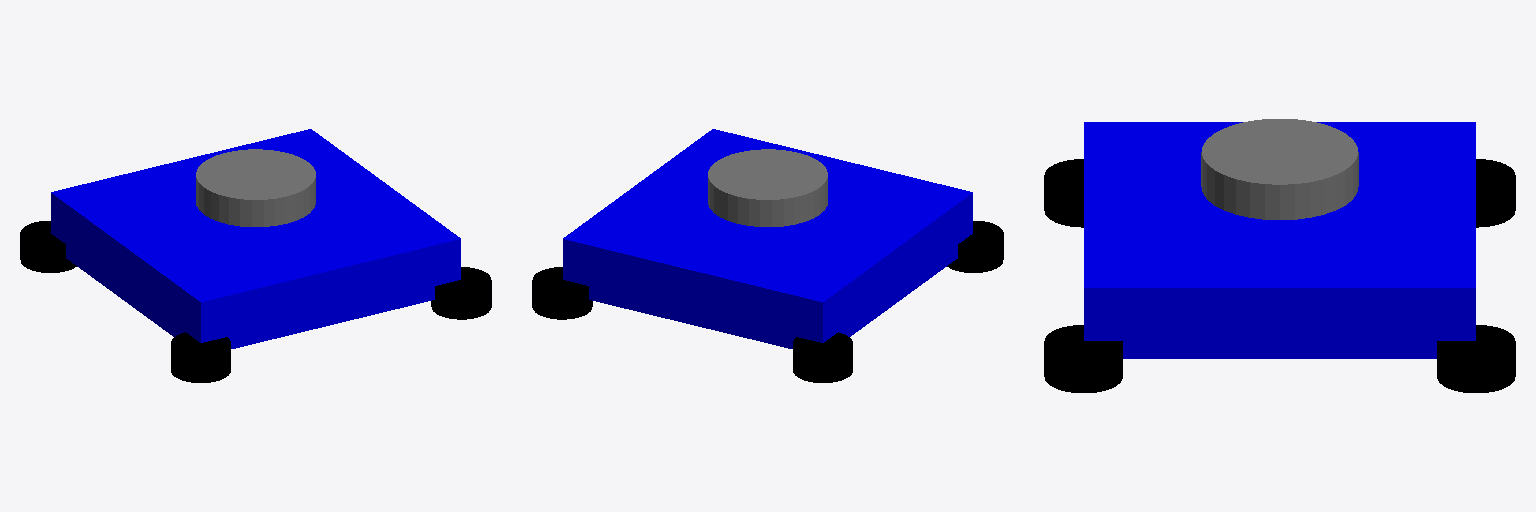
URDF robot description (omni_robot):
<?xml version="1.0" ?>
<!-- =================================================================================== -->
<!-- |    This document was autogenerated by xacro from omni.urdf.xacro                | -->
<!-- |    EDITING THIS FILE BY HAND IS NOT RECOMMENDED                                 | -->
<!-- =================================================================================== -->
<robot name="omni_robot">
  
  <!-- Base of the robot -->
  <link name="base_link">
    <visual>
      <geometry>
        <box size="0.5 0.5 0.1"/>
        <!-- Placeholder dimensions: 50cm x 50cm x 10cm -->
      </geometry>
      <material name="blue">
        <color rgba="0.0 0.0 1.0 1.0"/>
      </material>
    </visual>
    <collision>
      <geometry>
        <box size="0.5 0.5 0.1"/>
      </geometry>
    </collision>
    <inertial>
      <mass value="10.0"/>
      <inertia ixx="0.2" ixy="0.0" ixz="0.0" iyy="0.2" iyz="0.0" izz="0.2"/>
    </inertial>
  </link>
  <!-- LIDAR Sensor -->
  <link name="lidar_link">
    <visual>
      <geometry>
        <cylinder length="0.05" radius="0.1"/>
      </geometry>
      <material name="grey">
        <color rgba="0.5 0.5 0.5 1.0"/>
      </material>
    </visual>
    <collision>
      <geometry>
        <cylinder length="0.05" radius="0.1"/>
      </geometry>
    </collision>
    <inertial>
      <mass value="0.5"/>
      <inertia ixx="0.01" ixy="0.0" ixz="0.0" iyy="0.01" iyz="0.0" izz="0.01"/>
    </inertial>
  </link>
  <!-- LIDAR Joint -->
  <joint name="lidar_joint" type="fixed">
    <parent link="base_link"/>
    <child link="lidar_link"/>
    <origin rpy="0 0 0" xyz="0 0 0.1"/>
    <!-- Positioned on top of the base -->
  </joint>
  <link name="wheel_1_link">
    <visual>
      <geometry>
        <cylinder length="0.05" radius="0.05"/>
        <!-- Placeholder dimensions: 10cm diameter, 5cm width -->
      </geometry>
      <material name="black">
        <color rgba="0.0 0.0 0.0 1.0"/>
      </material>
    </visual>
    <collision>
      <geometry>
        <cylinder length="0.05" radius="0.05"/>
      </geometry>
    </collision>
    <inertial>
      <mass value="1.0"/>
      <inertia ixx="0.005" ixy="0.0" ixz="0.0" iyy="0.005" iyz="0.0" izz="0.005"/>
    </inertial>
  </link>
  <joint name="wheel_1_joint" type="continuous">
    <parent link="base_link"/>
    <child link="wheel_1_link"/>
    <origin rpy="0 0 0" xyz="0.25 0.25 -0.05"/>
    <axis xyz="0 1 0"/>
    <!-- Rotation around the Y-axis -->
  </joint>
  <link name="wheel_2_link">
    <visual>
      <geometry>
        <cylinder length="0.05" radius="0.05"/>
        <!-- Placeholder dimensions: 10cm diameter, 5cm width -->
      </geometry>
      <material name="black">
        <color rgba="0.0 0.0 0.0 1.0"/>
      </material>
    </visual>
    <collision>
      <geometry>
        <cylinder length="0.05" radius="0.05"/>
      </geometry>
    </collision>
    <inertial>
      <mass value="1.0"/>
      <inertia ixx="0.005" ixy="0.0" ixz="0.0" iyy="0.005" iyz="0.0" izz="0.005"/>
    </inertial>
  </link>
  <joint name="wheel_2_joint" type="continuous">
    <parent link="base_link"/>
    <child link="wheel_2_link"/>
    <origin rpy="0 0 0" xyz="0.25 -0.25 -0.05"/>
    <axis xyz="0 1 0"/>
    <!-- Rotation around the Y-axis -->
  </joint>
  <link name="wheel_3_link">
    <visual>
      <geometry>
        <cylinder length="0.05" radius="0.05"/>
        <!-- Placeholder dimensions: 10cm diameter, 5cm width -->
      </geometry>
      <material name="black">
        <color rgba="0.0 0.0 0.0 1.0"/>
      </material>
    </visual>
    <collision>
      <geometry>
        <cylinder length="0.05" radius="0.05"/>
      </geometry>
    </collision>
    <inertial>
      <mass value="1.0"/>
      <inertia ixx="0.005" ixy="0.0" ixz="0.0" iyy="0.005" iyz="0.0" izz="0.005"/>
    </inertial>
  </link>
  <joint name="wheel_3_joint" type="continuous">
    <parent link="base_link"/>
    <child link="wheel_3_link"/>
    <origin rpy="0 0 0" xyz="-0.25 -0.25 -0.05"/>
    <axis xyz="0 1 0"/>
    <!-- Rotation around the Y-axis -->
  </joint>
  <link name="wheel_4_link">
    <visual>
      <geometry>
        <cylinder length="0.05" radius="0.05"/>
        <!-- Placeholder dimensions: 10cm diameter, 5cm width -->
      </geometry>
      <material name="black">
        <color rgba="0.0 0.0 0.0 1.0"/>
      </material>
    </visual>
    <collision>
      <geometry>
        <cylinder length="0.05" radius="0.05"/>
      </geometry>
    </collision>
    <inertial>
      <mass value="1.0"/>
      <inertia ixx="0.005" ixy="0.0" ixz="0.0" iyy="0.005" iyz="0.0" izz="0.005"/>
    </inertial>
  </link>
  <joint name="wheel_4_joint" type="continuous">
    <parent link="base_link"/>
    <child link="wheel_4_link"/>
    <origin rpy="0 0 0" xyz="-0.25 0.25 -0.05"/>
    <axis xyz="0 1 0"/>
    <!-- Rotation around the Y-axis -->
  </joint>
</robot>

--- Facts derived from the render (not from the file) ---
3 views of the same robot in one strip: view 1: azimuth 30°, elevation 25°; view 2: azimuth 150°, elevation 25°; view 3: azimuth 270°, elevation 25° (orthographic).
Model omni_robot with 6 links and 5 joints (4 continuous, 1 fixed), rooted at base_link, posed every joint at zero.
Visible links, largest first — view 1: base_link, lidar_link, wheel_3_link, wheel_2_link, wheel_4_link; view 2: base_link, lidar_link, wheel_4_link, wheel_1_link, wheel_3_link; view 3: base_link, lidar_link, wheel_1_link, wheel_2_link, wheel_3_link, wheel_4_link.
Boxes of the visible links, <box> form: base_link: <box>51,129,460,348</box>; lidar_link: <box>196,149,315,226</box>; wheel_3_link: <box>171,332,230,382</box>; wheel_2_link: <box>431,267,491,319</box>; wheel_4_link: <box>20,221,76,272</box>; base_link: <box>563,129,972,348</box>; lidar_link: <box>708,149,827,226</box>; wheel_4_link: <box>793,332,852,382</box>; wheel_1_link: <box>532,267,592,319</box>; wheel_3_link: <box>947,221,1003,272</box>; base_link: <box>1084,122,1475,358</box>; lidar_link: <box>1201,119,1358,219</box>; wheel_1_link: <box>1437,325,1515,392</box>; wheel_2_link: <box>1044,325,1122,392</box>; wheel_3_link: <box>1044,159,1083,227</box>; wheel_4_link: <box>1476,159,1515,227</box>.
Size in the robot's own frame: 0.6 by 0.6 by 0.2 metres.
Geometry: primitives only (box / cylinder / sphere), no mesh files.